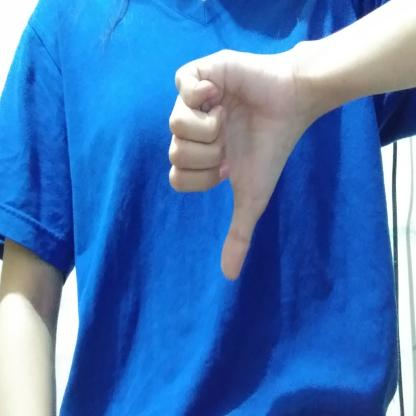no: (164, 45, 298, 289)
